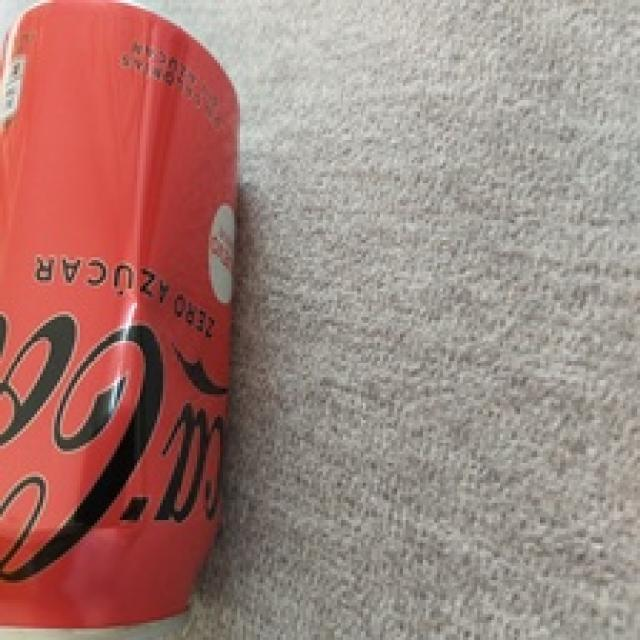recyclable: (0, 0, 240, 639)
